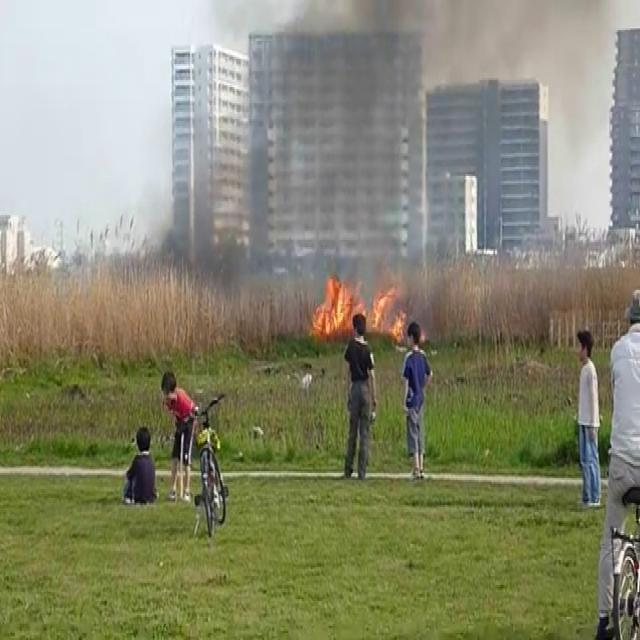Fire: (310, 261, 412, 345)
Smoke: (167, 0, 620, 288)
